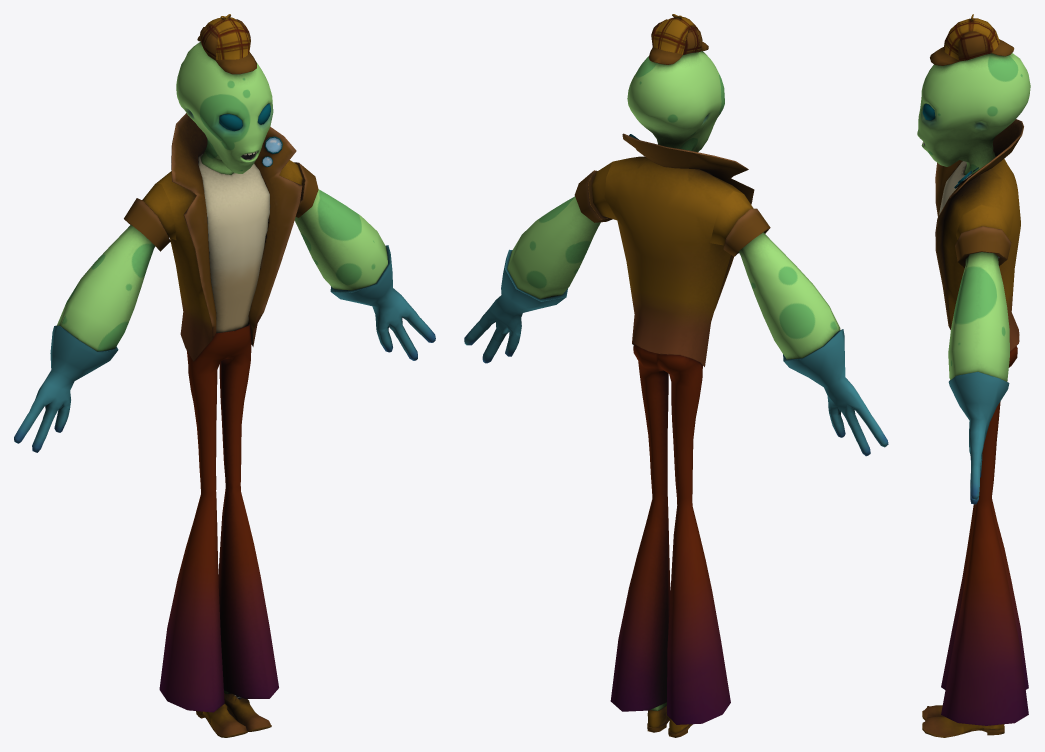
The model's file is Blip-Blop.fbx.
The picture shows the model from 3 angles, left to right: view 1: azimuth 30°, elevation 25°; view 2: azimuth 150°, elevation 25°; view 3: azimuth 270°, elevation 25°; orthographic projection.
Visible parts, largest first — view 1: Blip-Blop; view 2: Blip-Blop; view 3: Blip-Blop.
Part boxes in pixels (left/top/right/bottom): Blip-Blop: left=14, top=14, right=435, bottom=737; Blip-Blop: left=464, top=14, right=888, bottom=737; Blip-Blop: left=917, top=14, right=1030, bottom=737.
Bounding box in the file's own units: 113 × 180 × 25.97.
Materials: 1 (1 with a texture image).
